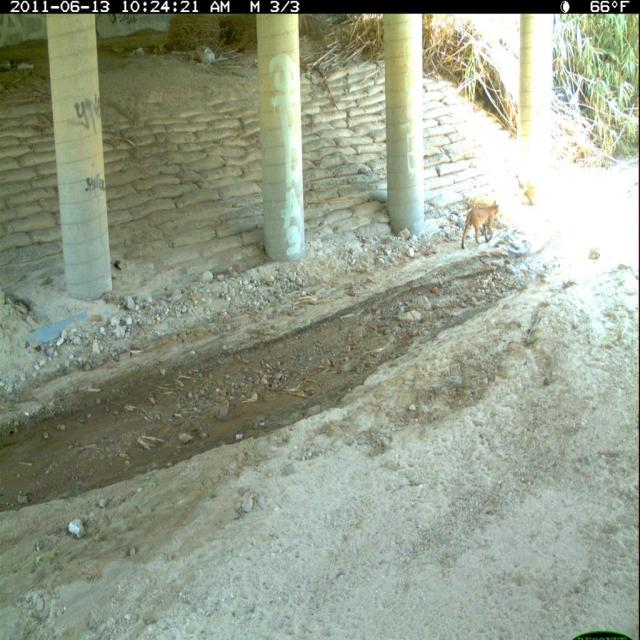bobcat: (459, 197, 503, 252)
